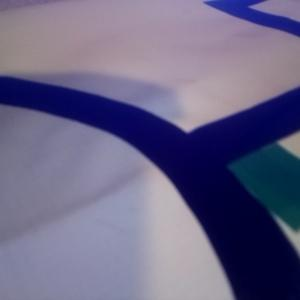bottom_right: (205, 140, 300, 232)
